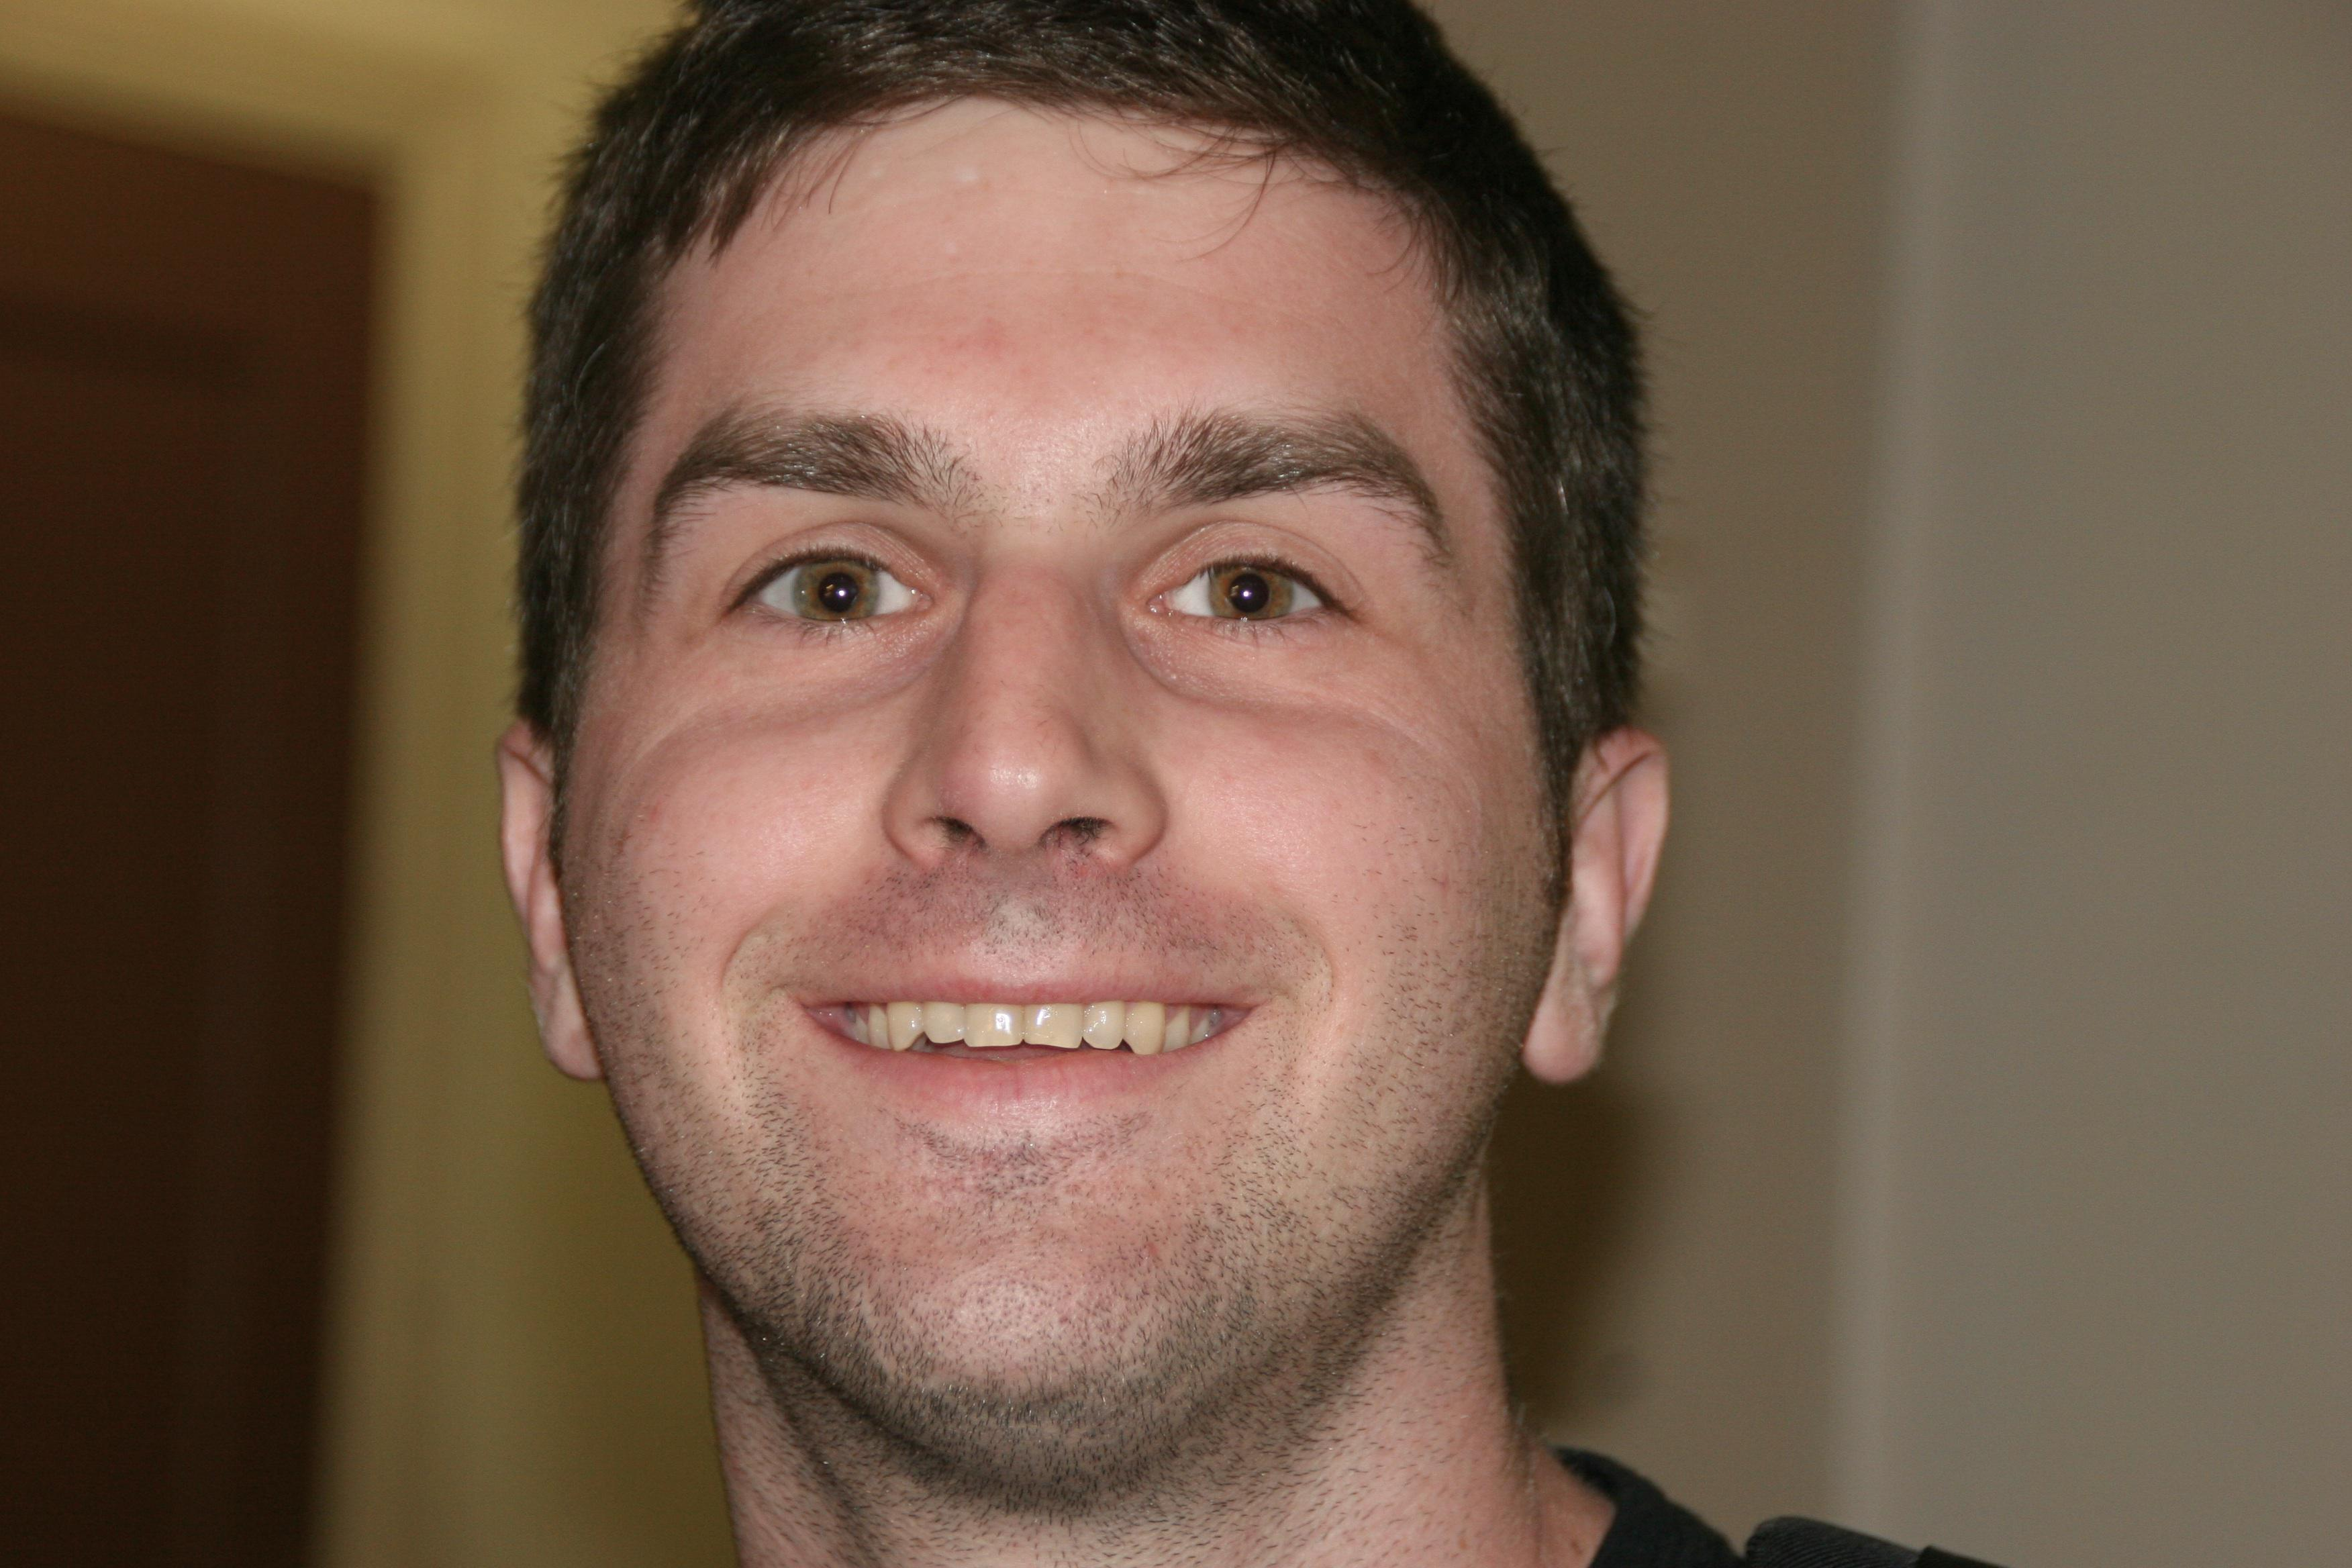Sober: (639, 199, 1542, 1318)
